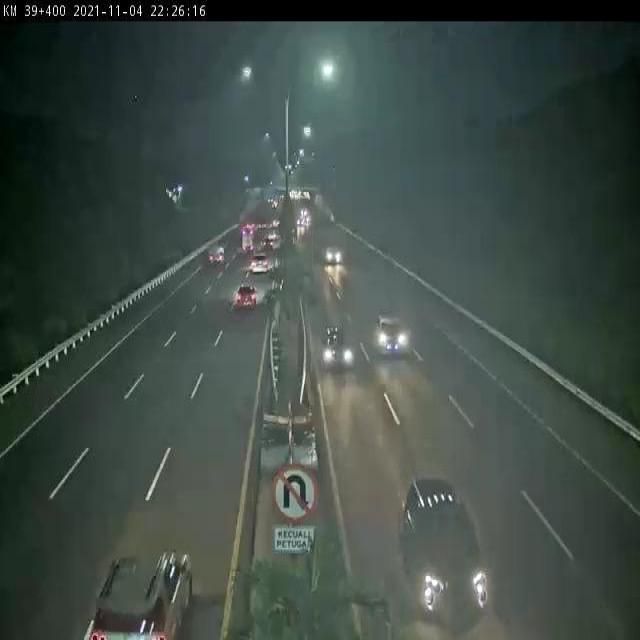car: (392, 481, 503, 616), (105, 553, 180, 631), (316, 313, 356, 376), (223, 285, 270, 328), (371, 316, 411, 365), (326, 249, 344, 271)
